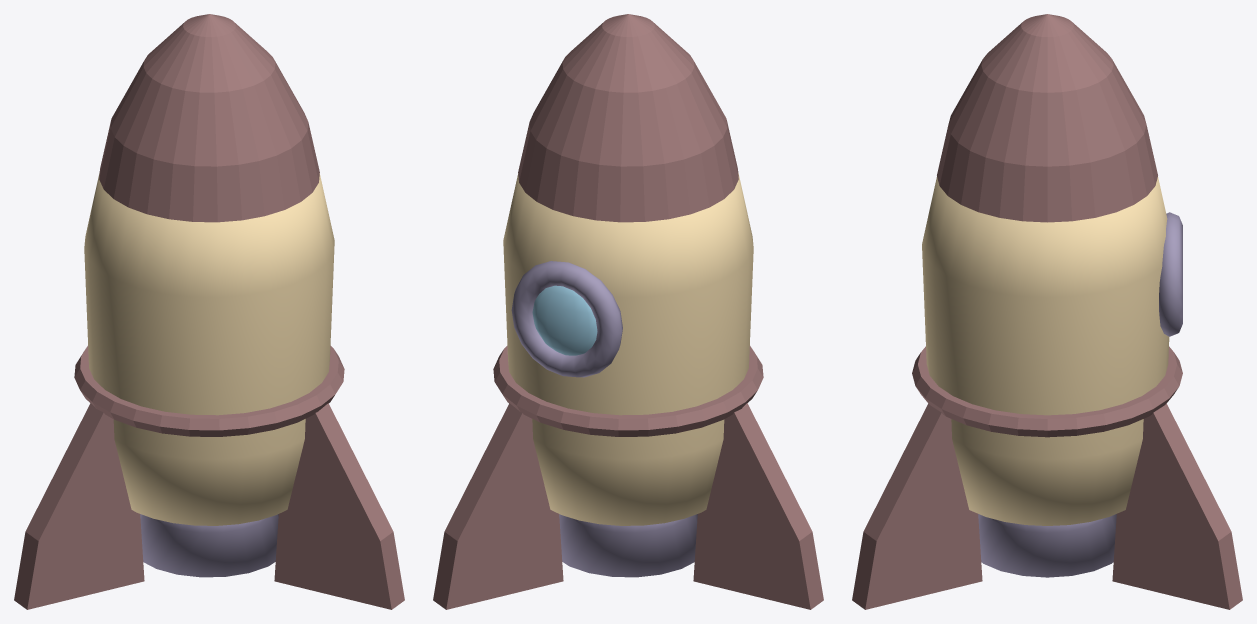
File: MessyMemoryRocket.glb
3 renders of one model, left to right at view 1: azimuth 30°, elevation 25°; view 2: azimuth 150°, elevation 25°; view 3: azimuth 270°, elevation 25°, orthographic.
Parts seen in each view (by area): view 1: Nose, Body, Rim; view 2: Nose, Body, Rim, Window; view 3: Nose, Body, Rim.
Boxes of the visible parts, x1,y1,x2,y2 form: Nose: (14, 14, 404, 609); Body: (84, 173, 334, 525); Rim: (140, 514, 278, 577); Nose: (433, 14, 823, 609); Body: (503, 173, 753, 525); Rim: (511, 261, 697, 577); Window: (532, 285, 597, 355); Nose: (852, 14, 1242, 609); Body: (922, 177, 1169, 525); Rim: (978, 212, 1182, 577).
Bounding box in the file's own units: 1.07 × 1.82 × 1.18.
